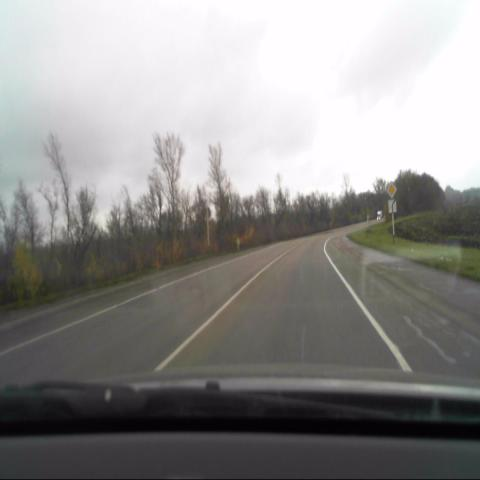2_1: (386, 182, 396, 198)
